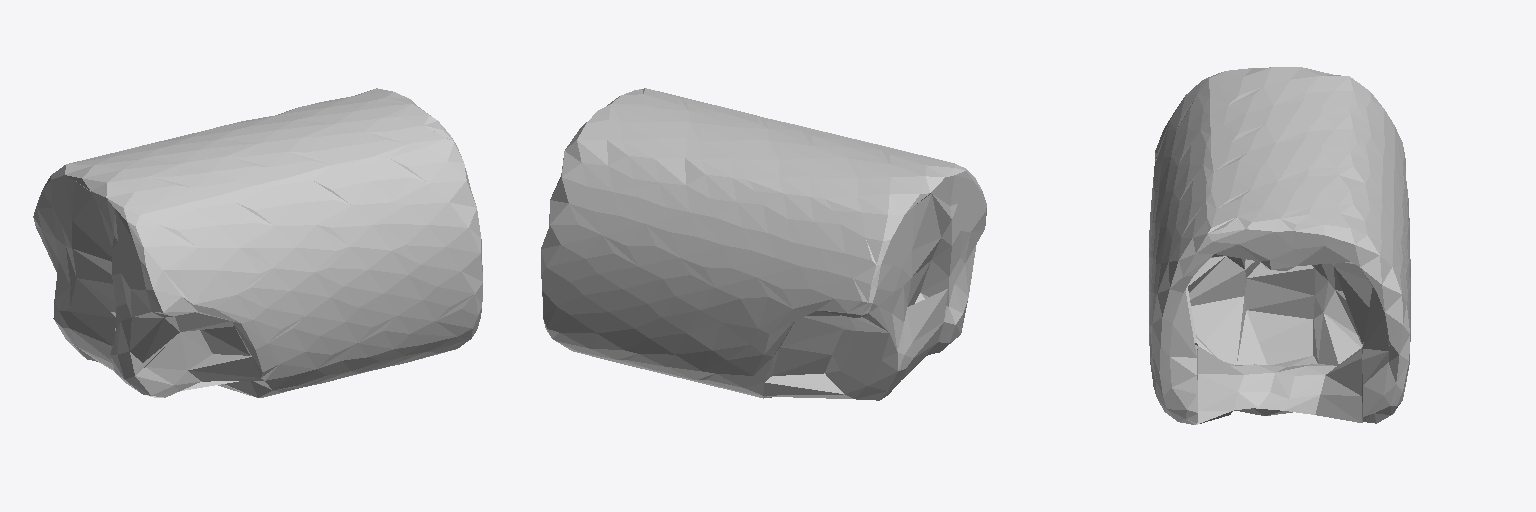
Rendered from sim_ecub_1-0_l_hand_thumb_2.obj.
The picture shows the model from 3 angles: view 1: azimuth 30°, elevation 25°; view 2: azimuth 150°, elevation 25°; view 3: azimuth 270°, elevation 25°; orthographic projection.
Size of the model in its own units: 26.49 by 17.26 by 17.99.